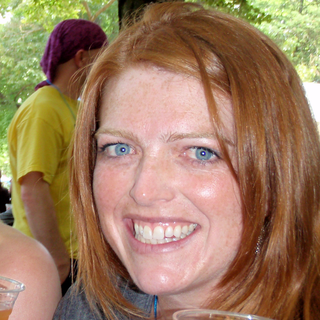eye: (176, 143, 223, 168), (97, 141, 139, 159)
